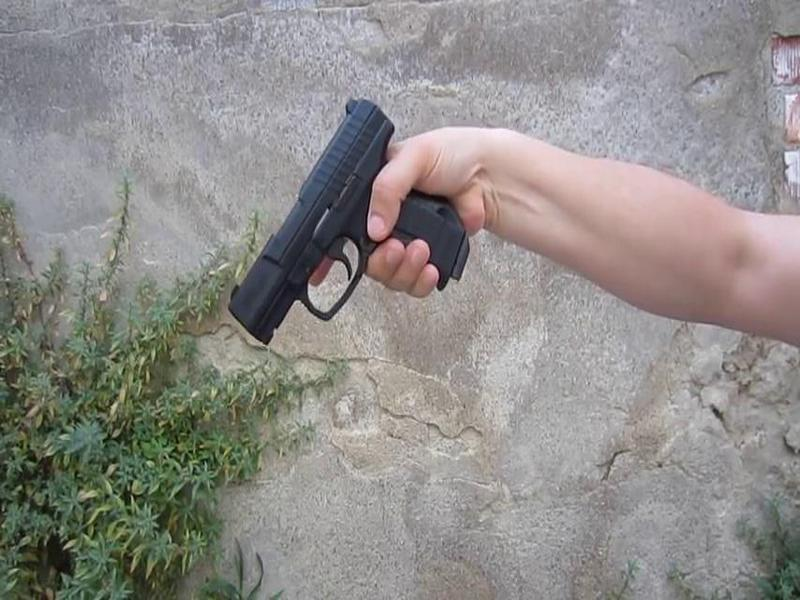Pistola: (208, 92, 472, 353)
